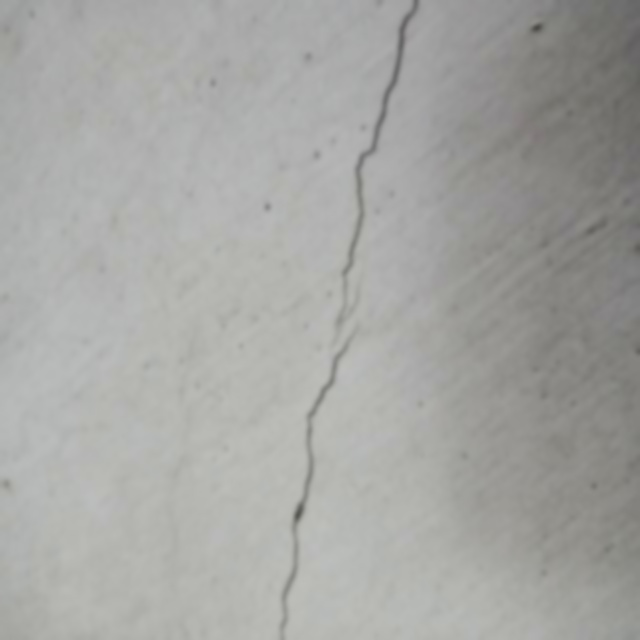SurfaceCrack: (234, 0, 459, 640)
